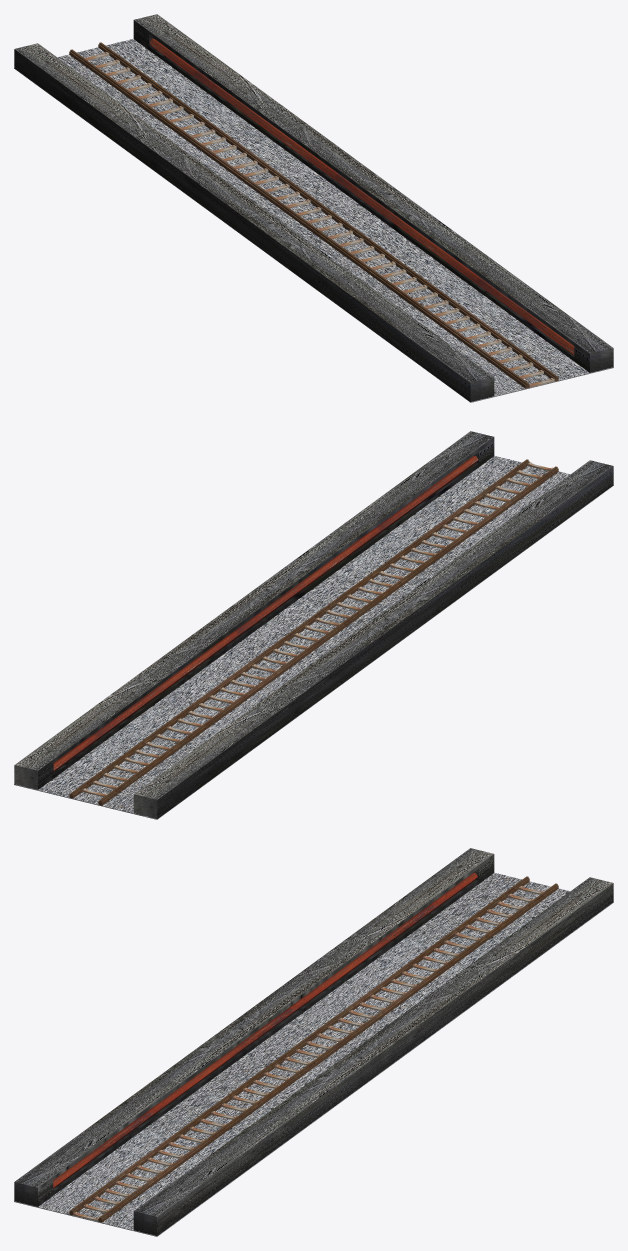
The model's file is Vías.fbx.
The picture shows the model from 3 angles, top to bottom: view 1: azimuth 30°, elevation 25°; view 2: azimuth 150°, elevation 25°; view 3: azimuth 330°, elevation 25°; orthographic projection.
Parts seen in each view (by area): view 1: pCube5, pasted__pCube2, pCube2, pasted__MASH1_ReproMesh, pasted__pCylinder3, pasted__pCube1, pCube1; view 2: pCube5, pasted__pCube2, pCube2, pasted__MASH1_ReproMesh, pasted__pCylinder3, pasted__pCube1, pCube1; view 3: pCube5, pCube2, pasted__pCube2, pasted__MASH1_ReproMesh, pCylinder3, pCube1, pasted__pCube1.
Part boxes in pixels (<box>): pCube5: <box>14,38,613,402</box>; pasted__pCube2: <box>14,43,494,401</box>; pCube2: <box>133,14,613,372</box>; pasted__MASH1_ReproMesh: <box>83,52,554,387</box>; pasted__pCylinder3: <box>149,38,574,354</box>; pasted__pCube1: <box>69,49,529,388</box>; pCube1: <box>98,42,558,381</box>; pCube5: <box>14,455,613,819</box>; pasted__pCube2: <box>133,460,613,818</box>; pCube2: <box>14,431,494,789</box>; pasted__MASH1_ReproMesh: <box>82,462,552,797</box>; pasted__pCylinder3: <box>53,455,478,771</box>; pasted__pCube1: <box>98,466,558,805</box>; pCube1: <box>69,459,529,798</box>; pCube5: <box>14,873,613,1236</box>; pCube2: <box>133,877,613,1235</box>; pasted__pCube2: <box>14,848,494,1206</box>; pasted__MASH1_ReproMesh: <box>73,886,544,1221</box>; pCylinder3: <box>53,872,477,1188</box>; pCube1: <box>98,883,558,1222</box>; pasted__pCube1: <box>69,876,529,1215</box>.
Size of the model in its own units: 39.46 by 5.2 by 218.
Materials: 5 (5 with a texture image).
